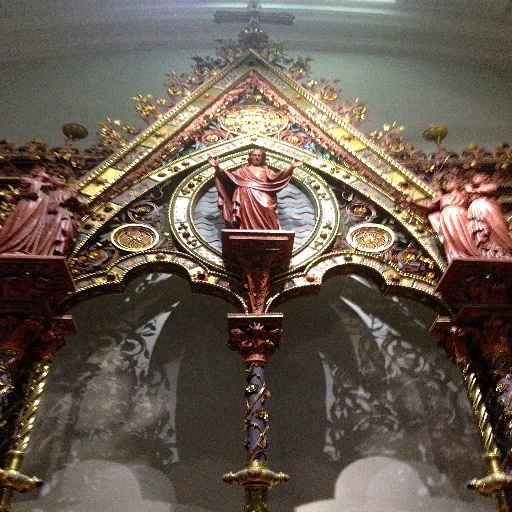hand: (401, 193, 415, 204), (289, 157, 303, 167), (42, 182, 56, 188), (461, 185, 472, 191), (210, 153, 216, 163)
